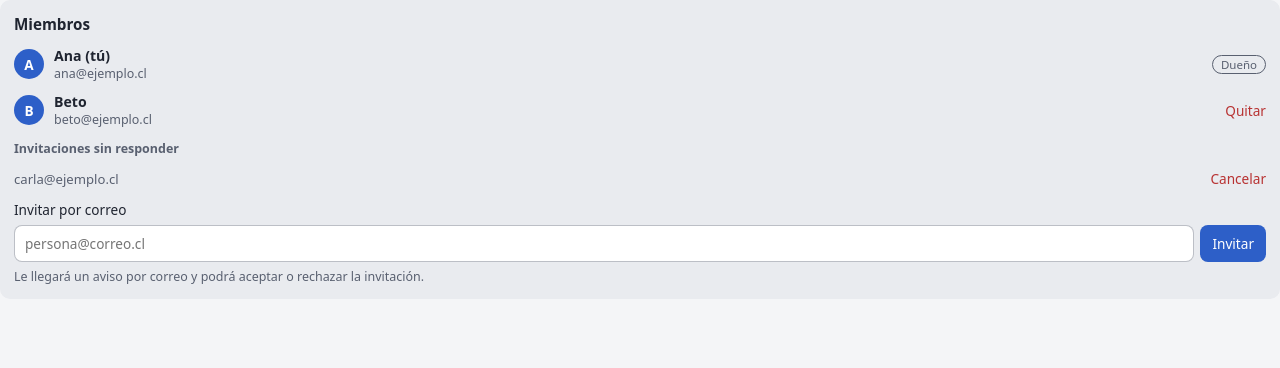
Test: panel de miembros (dueño) › si la invitación falla, muestra el motivo
The width and height of the screenshot is (1280, 368).
Type "carla@ejemplo.cl" into the field labelled "Invitar por correo" at coordinates (604, 244), box [14,225,1194,262]
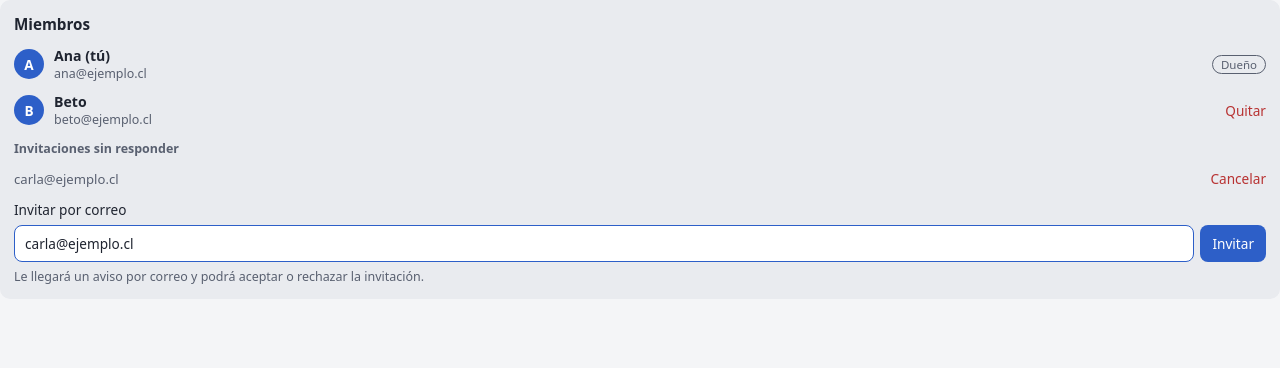
Click the button "Invitar" at coordinates (1233, 244), box [1200,225,1266,262]
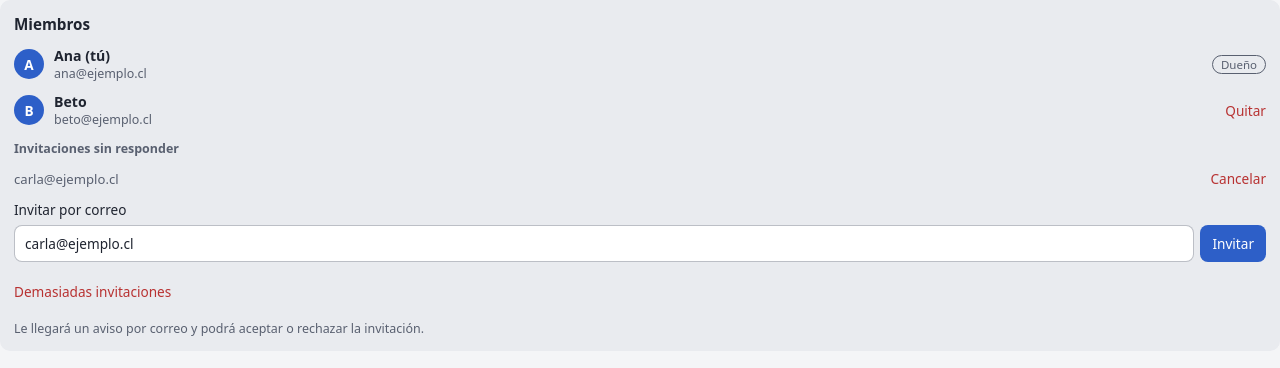
Expected: the text "Demasiadas invitaciones" is shown, [14,282,171,301]
